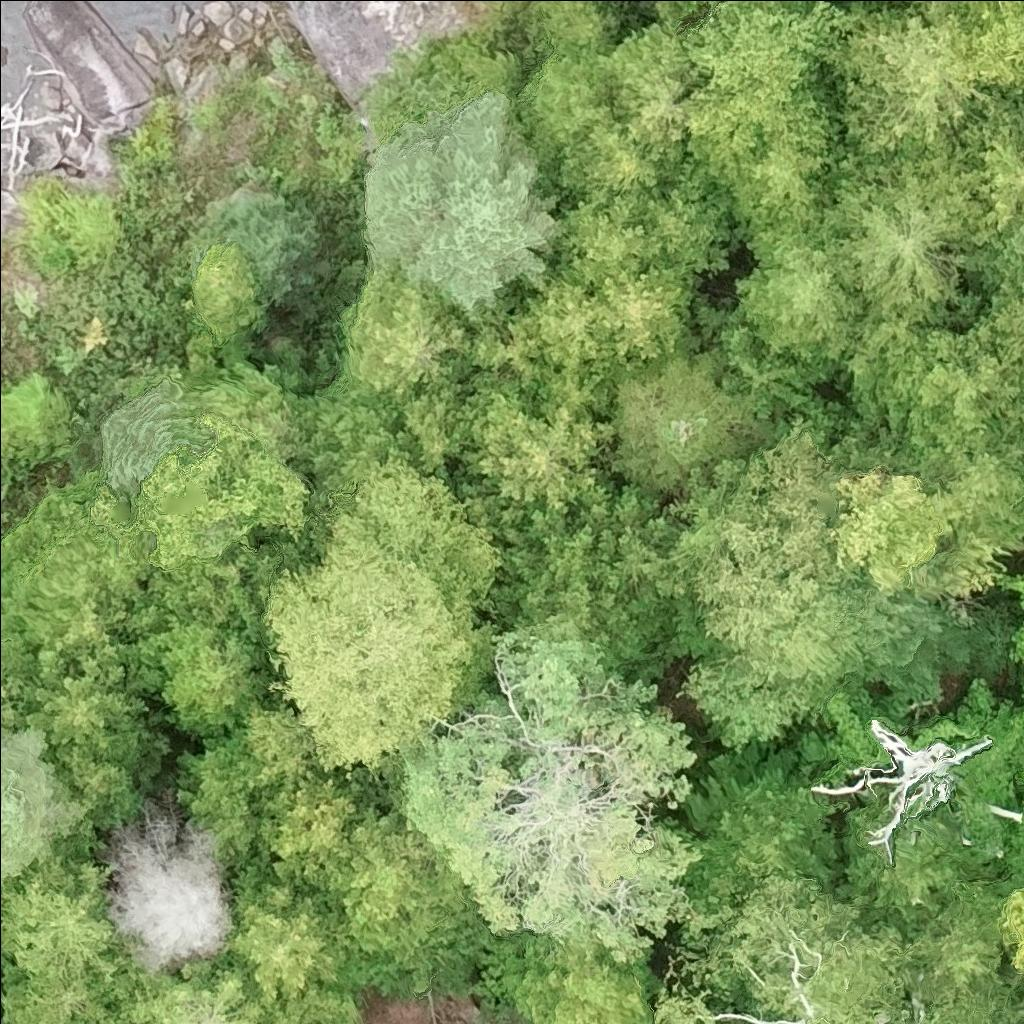crown: (386, 614, 709, 964), (253, 452, 507, 781), (676, 871, 1003, 1023), (689, 424, 870, 692), (365, 90, 566, 314), (136, 361, 313, 570), (812, 129, 989, 330), (312, 802, 477, 986), (586, 327, 758, 498), (677, 0, 857, 157), (809, 718, 992, 869), (828, 0, 993, 167), (729, 210, 877, 384), (544, 156, 731, 287), (837, 322, 1021, 455), (221, 841, 362, 1012), (0, 493, 149, 651), (102, 799, 236, 974), (462, 367, 616, 509), (693, 80, 840, 228), (468, 258, 623, 385), (29, 642, 171, 780), (340, 268, 474, 396), (828, 471, 970, 591), (0, 849, 132, 978), (902, 873, 1020, 1011), (154, 611, 276, 735), (906, 428, 1023, 552), (597, 21, 699, 163), (500, 935, 662, 1023), (250, 766, 362, 891), (288, 374, 396, 503), (0, 723, 88, 872), (900, 0, 1023, 102), (388, 348, 483, 474), (518, 43, 613, 164), (107, 949, 262, 1023), (950, 91, 1023, 243), (591, 265, 699, 367), (0, 956, 137, 1023), (556, 115, 660, 200), (51, 746, 144, 834), (190, 238, 268, 338), (234, 692, 316, 786), (529, 0, 619, 53), (0, 626, 40, 736), (983, 283, 1023, 383), (258, 986, 361, 1023), (996, 886, 1023, 974), (997, 378, 1023, 442), (1003, 808, 1023, 874), (1001, 569, 1023, 610), (1006, 614, 1023, 667), (1021, 523, 1023, 536), (0, 1021, 8, 1023)
